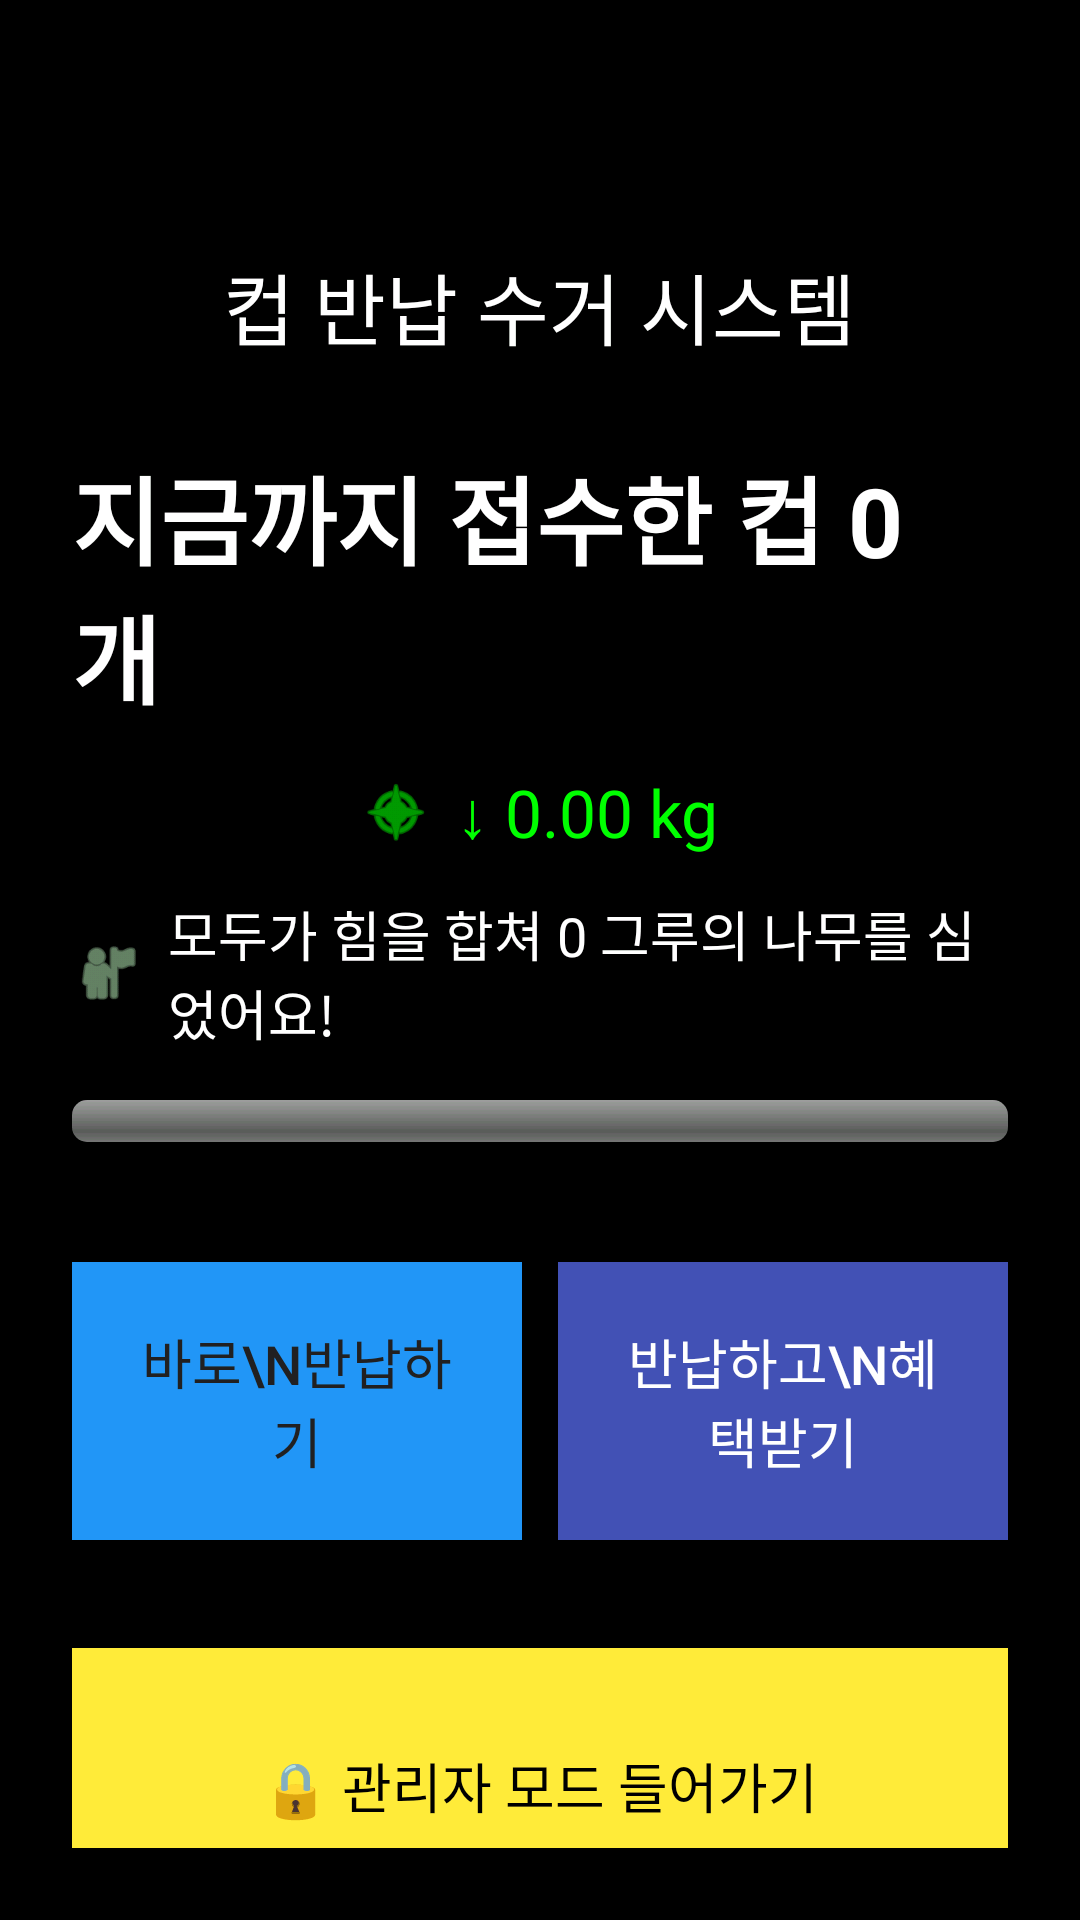

Named icons in this screenshot (1080px x 1920px) and their centers, [x,y]:
myplaces: [109,973]
